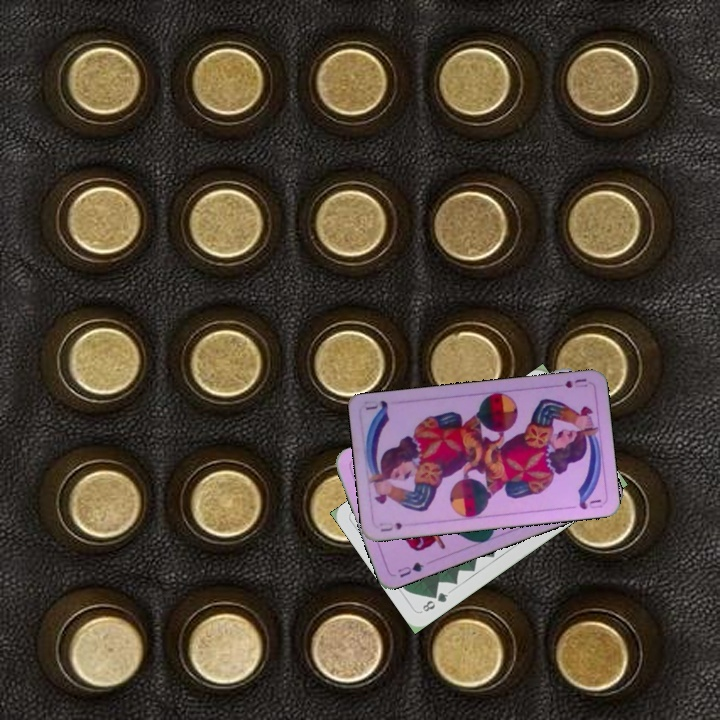G8: (418, 588, 451, 614)
GU: (393, 558, 427, 581)
SU: (550, 374, 590, 391), (375, 518, 405, 534)
